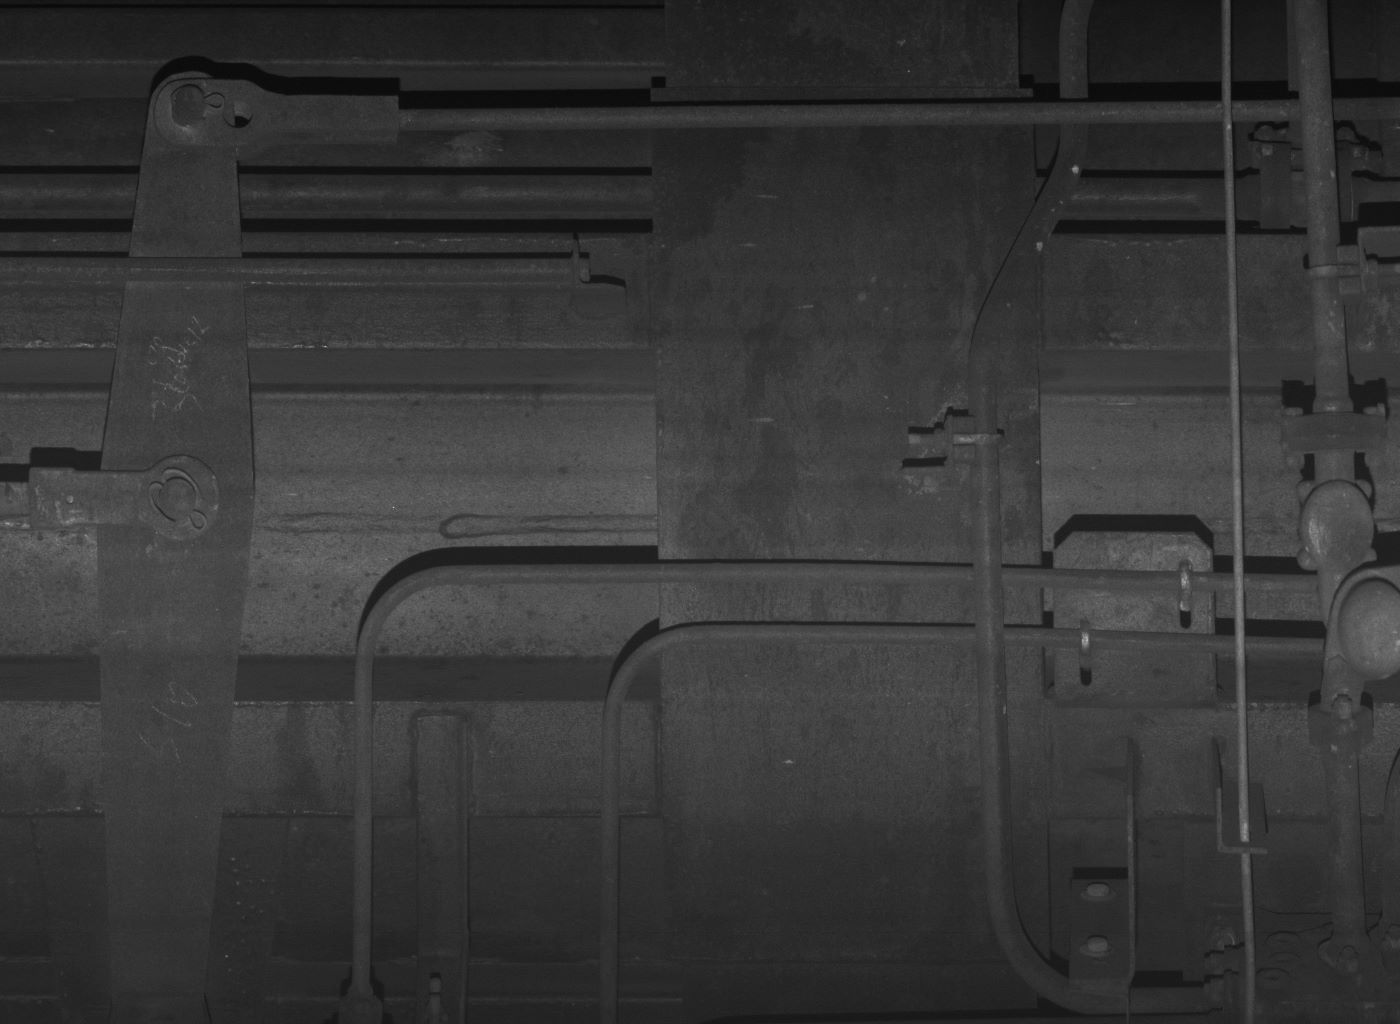normal: (1293, 479, 1376, 572)
